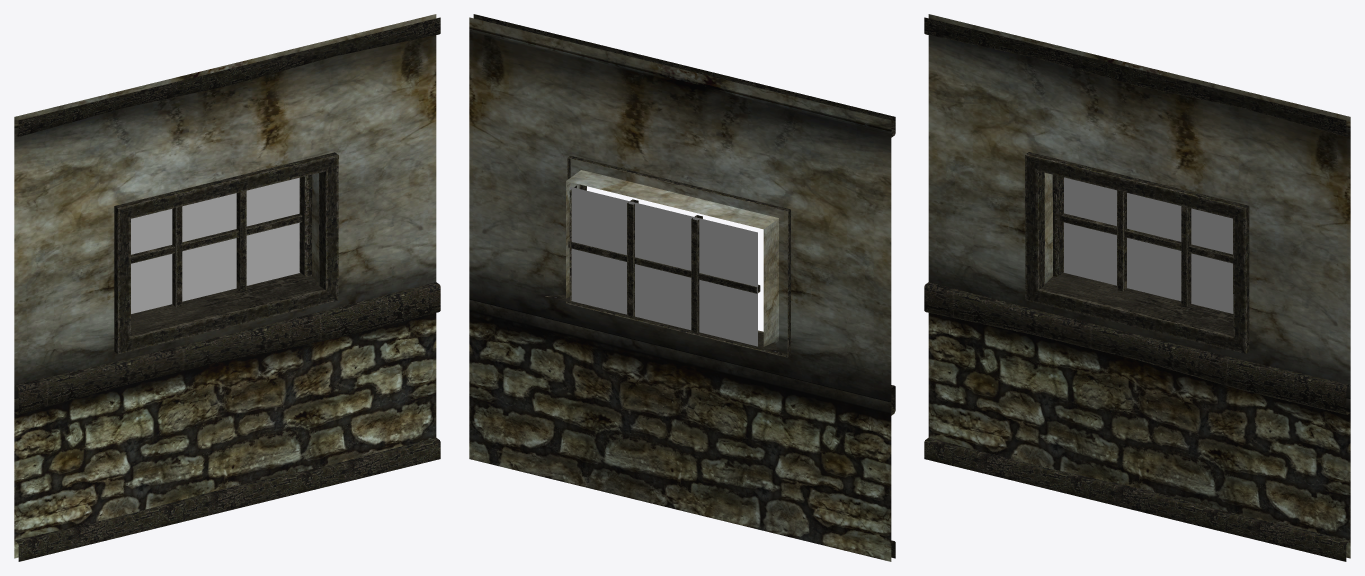
File: cellar_wall_01_win_unlit.DAE
The picture shows the model from 3 angles, left to right: view 1: azimuth 30°, elevation 25°; view 2: azimuth 150°, elevation 25°; view 3: azimuth 330°, elevation 25°; orthographic projection.
Parts seen in each view (by area): view 1: Box035, Box034, Object012, Plane002; view 2: Box035, Plane002, Object012, Box034; view 3: Box035, Box034, Object012, Plane002.
Boxes of the visible parts, x1=… form: Box035: x1=14, y1=14, x2=436, y2=558; Box034: x1=14, y1=17, x2=440, y2=561; Object012: x1=114, y1=152, x2=338, y2=354; Plane002: x1=131, y1=177, x2=299, y2=313; Box035: x1=469, y1=17, x2=891, y2=561; Plane002: x1=570, y1=186, x2=757, y2=346; Object012: x1=545, y1=155, x2=790, y2=357; Box034: x1=473, y1=14, x2=895, y2=558; Box035: x1=928, y1=14, x2=1350, y2=558; Box034: x1=924, y1=17, x2=1350, y2=561; Object012: x1=1025, y1=152, x2=1249, y2=353; Plane002: x1=1063, y1=177, x2=1233, y2=313.
Bounding box in the file's own units: 4 × 4 × 0.3983.
